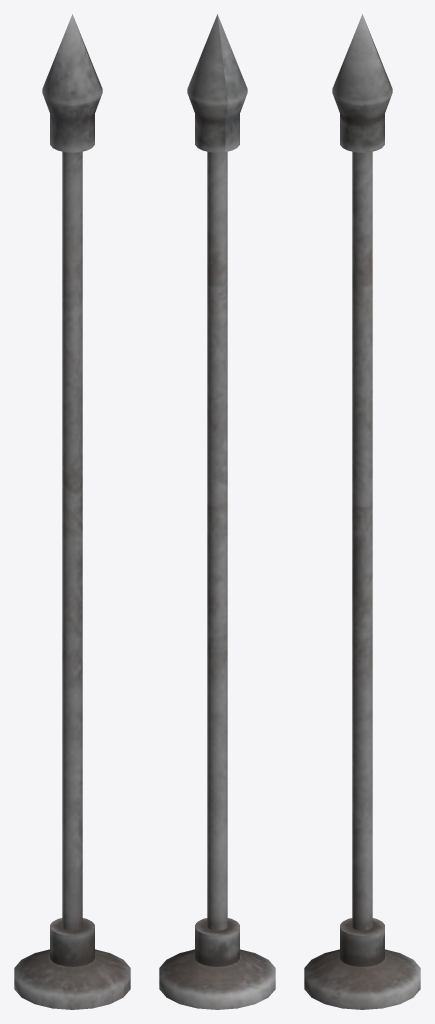
File: SM_Spike.FBX
The picture shows the model from 3 angles, left to right: view 1: azimuth 90°, elevation 25°; view 2: azimuth 210°, elevation 25°; view 3: azimuth 270°, elevation 25°; orthographic projection.
Visible parts, largest first — view 1: SM_Spike; view 2: SM_Spike; view 3: SM_Spike.
Boxes of the visible parts, bbox=[...] form: SM_Spike: bbox=[14, 14, 130, 1009]; SM_Spike: bbox=[159, 14, 275, 1009]; SM_Spike: bbox=[304, 14, 420, 1009].
Size of the model in its own units: 10.99 by 10.82 by 99.9.
